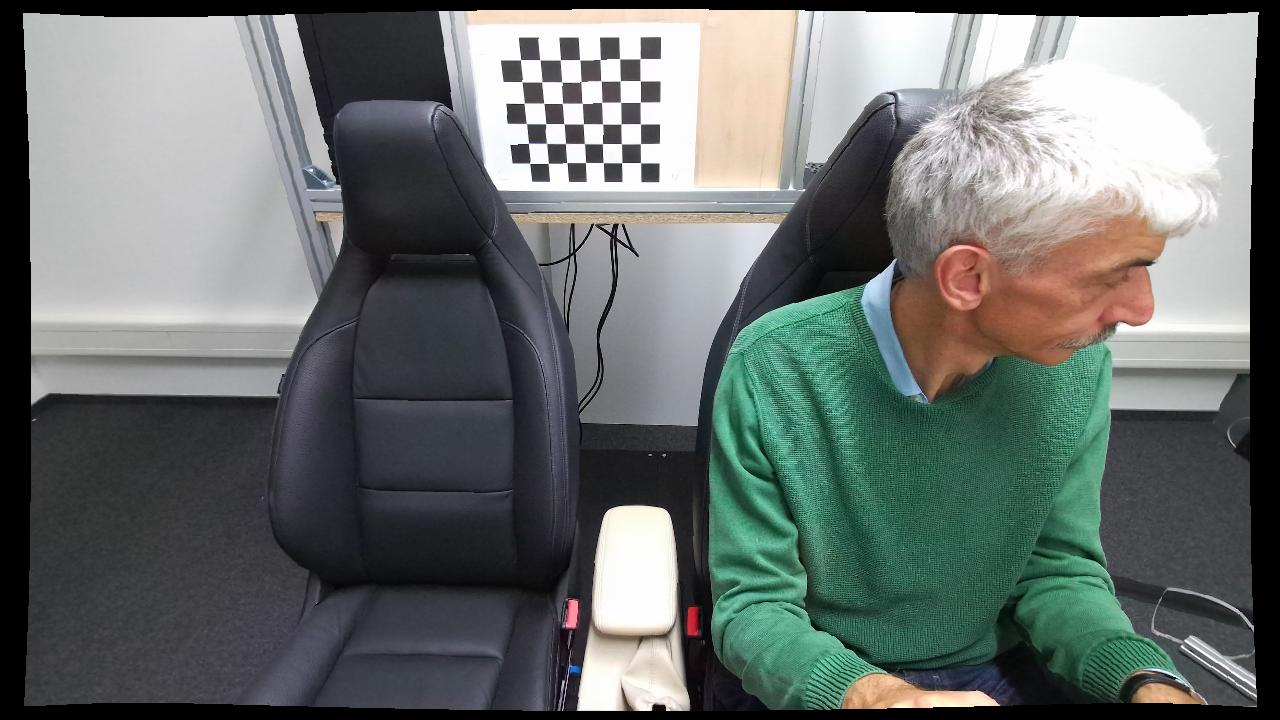Distracted: (711, 48, 1237, 714)
